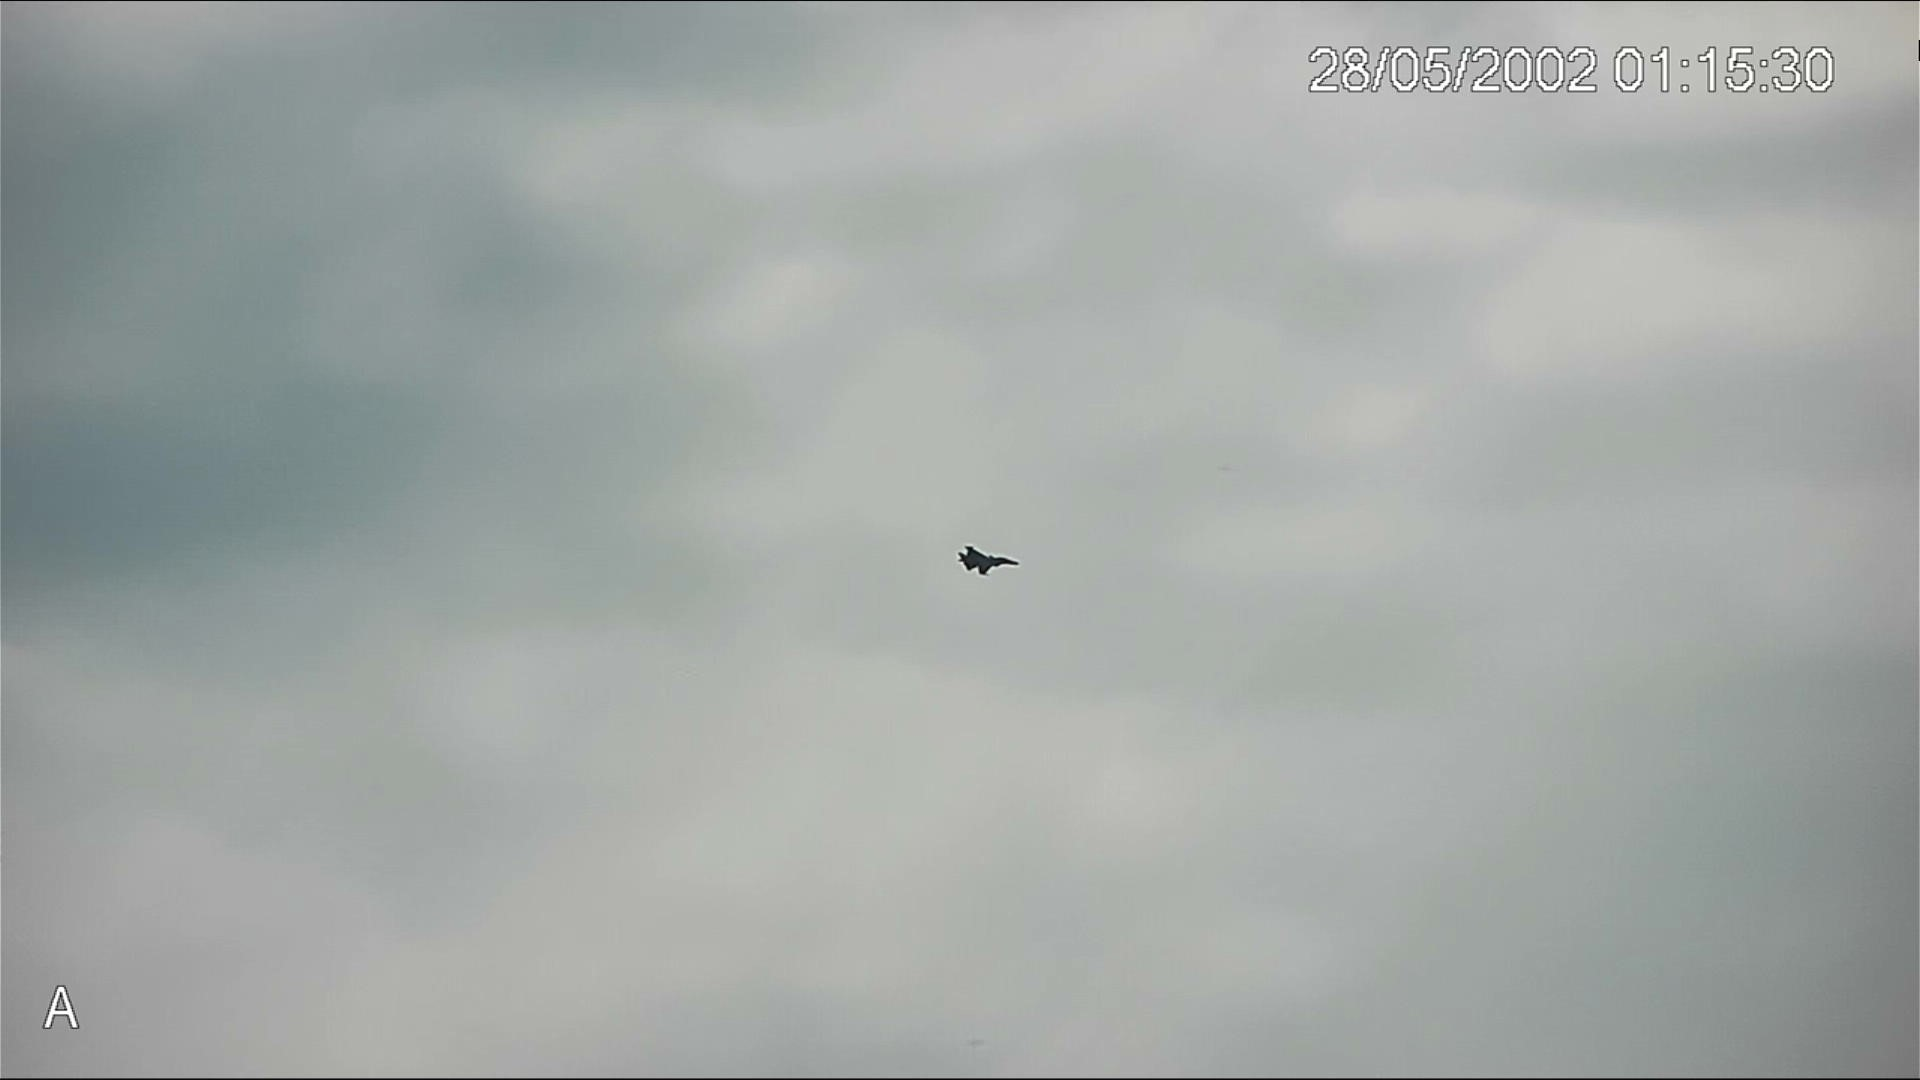SU_30: (957, 545, 1021, 578)
